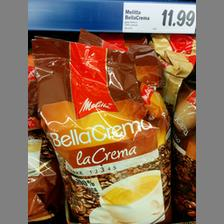Kaffee: (30, 33, 172, 223)
